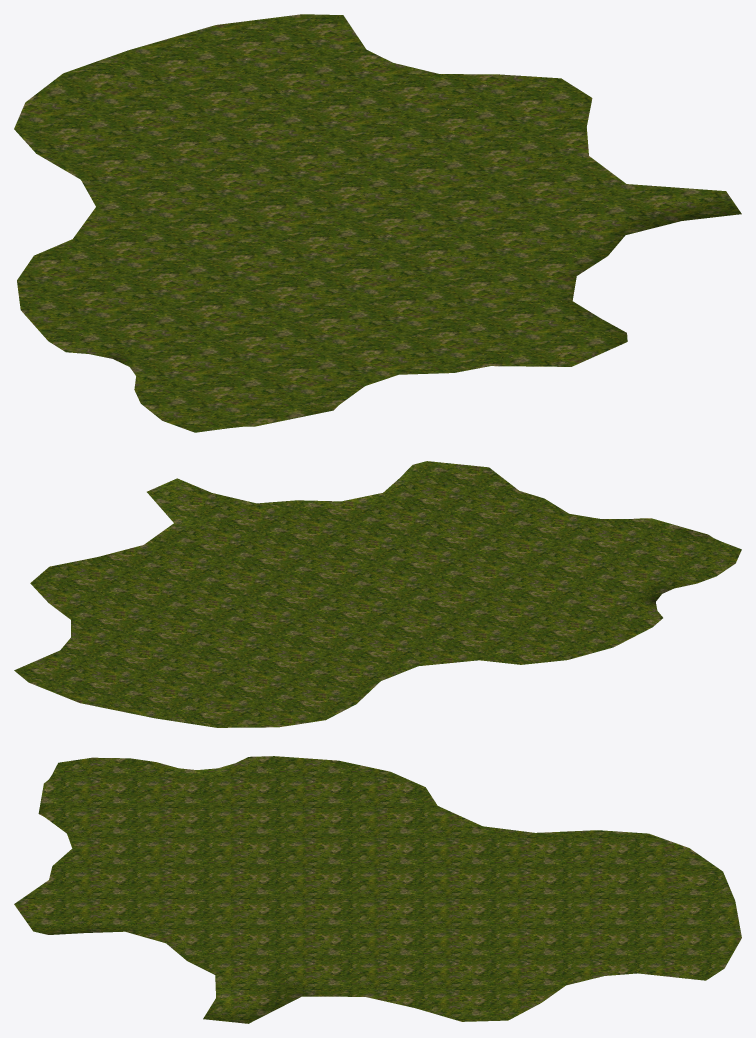
The model's file is OVERHILL_A_01_PROXY_LINE05.fbx.
The picture shows the model from 3 angles, top to bottom: view 1: azimuth 30°, elevation 25°; view 2: azimuth 150°, elevation 25°; view 3: azimuth 270°, elevation 25°; orthographic projection. The views are drawn at different scales.
Visible parts, largest first — view 1: OVERHILL_A_01_PROXY_LINE05; view 2: OVERHILL_A_01_PROXY_LINE05; view 3: OVERHILL_A_01_PROXY_LINE05.
Boxes of the visible parts, x1=… form: OVERHILL_A_01_PROXY_LINE05: x1=14, y1=14, x2=741, y2=432; OVERHILL_A_01_PROXY_LINE05: x1=14, y1=461, x2=741, y2=727; OVERHILL_A_01_PROXY_LINE05: x1=14, y1=756, x2=741, y2=1023.
Size of the model in its own units: 176573 by 162 by 202890.
Materials: 1 (1 with a texture image).
